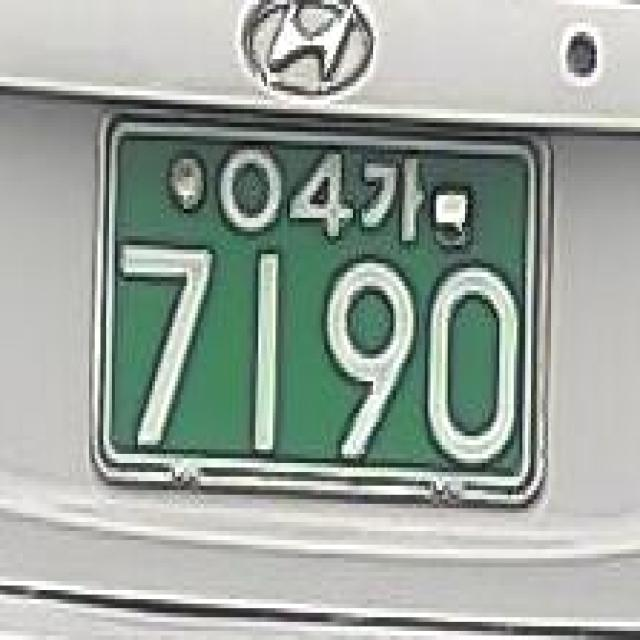illegal_plate: (67, 88, 566, 539)
